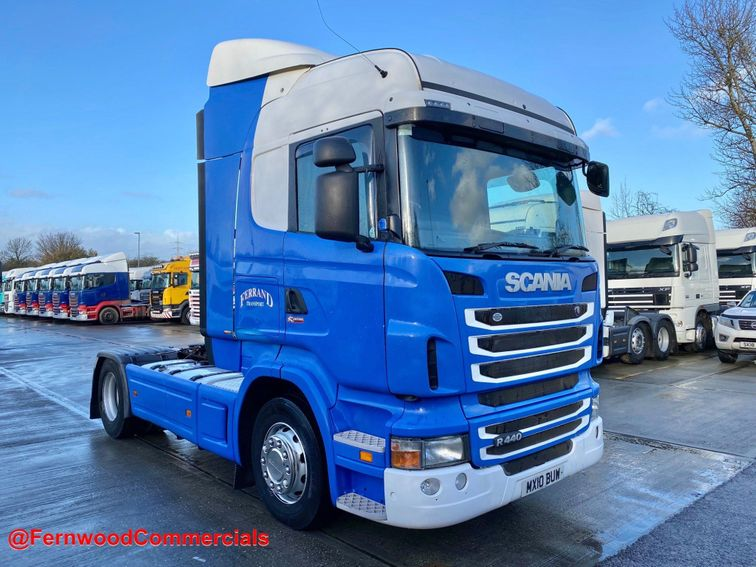Semi: (89, 38, 609, 529)
